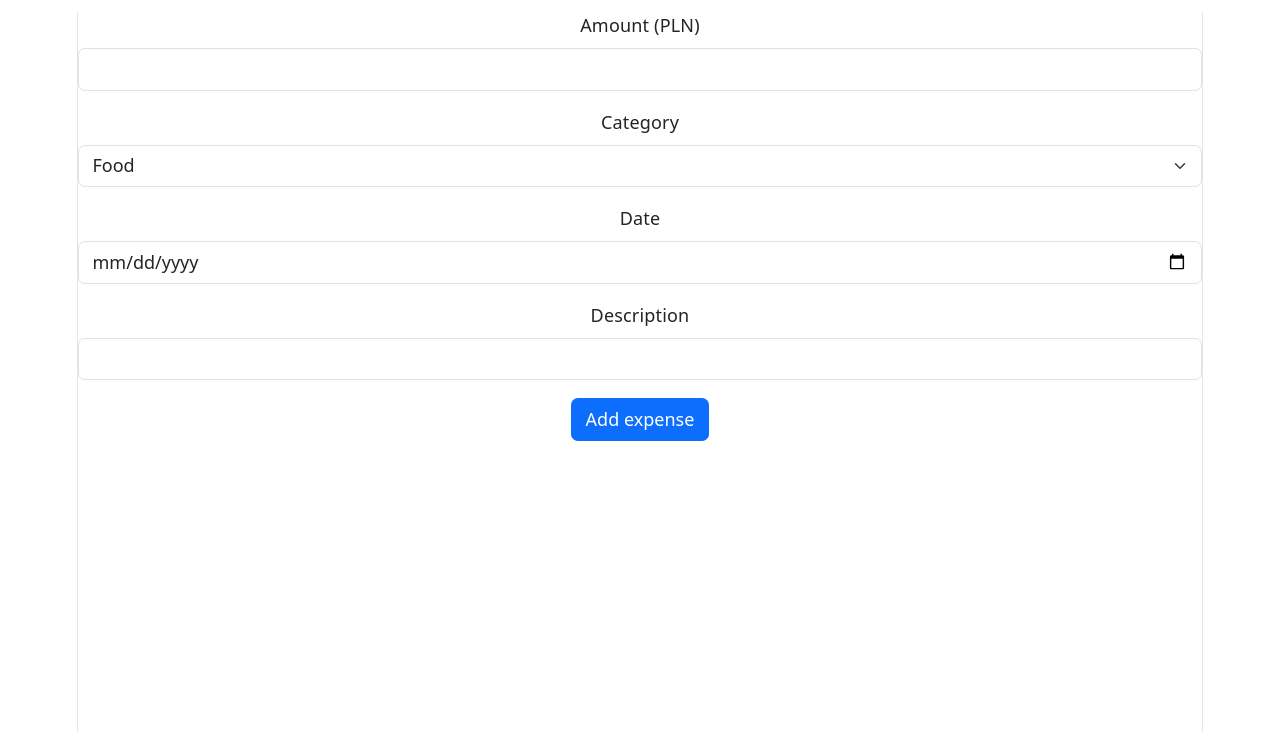
ExpenseForm › shows error when amount is negative
The image size is (1280, 732).
Type "-5" into the number field at (640, 69), box [78,48,1202,90]
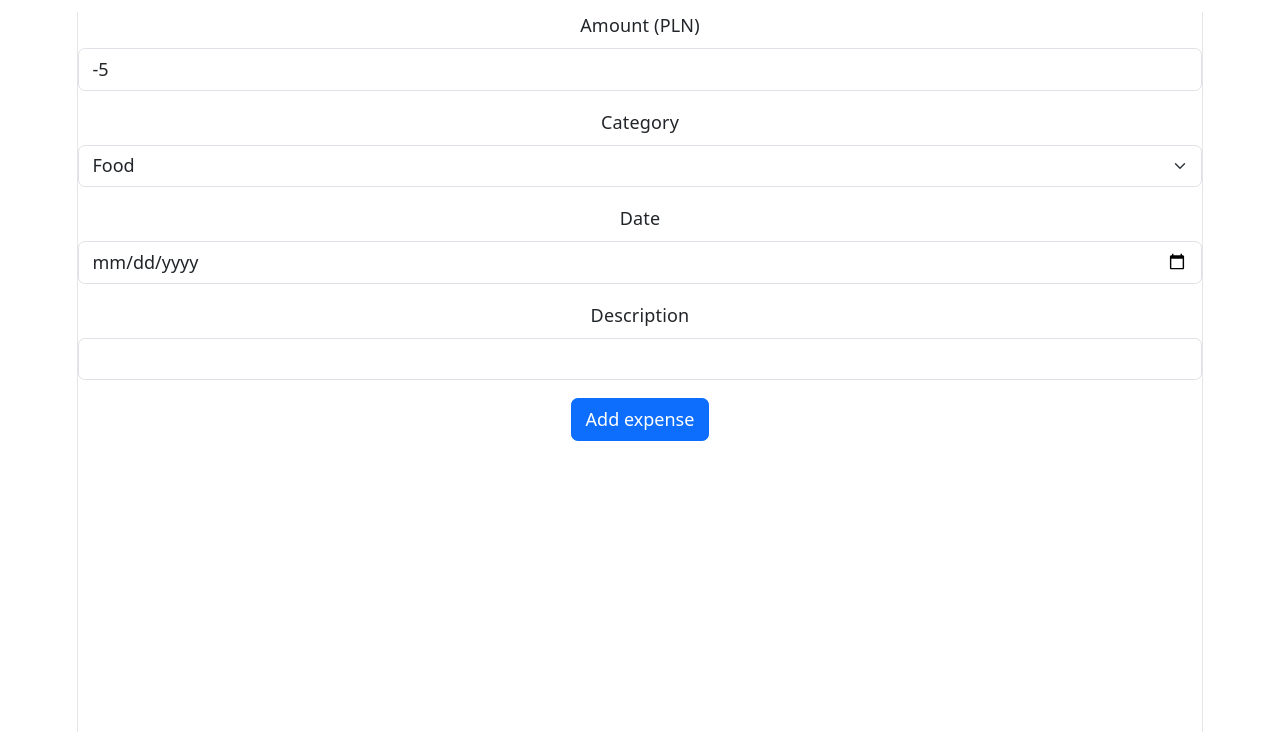
Type "2025-01-01" into the date field at (640, 262), box [78,241,1202,284]
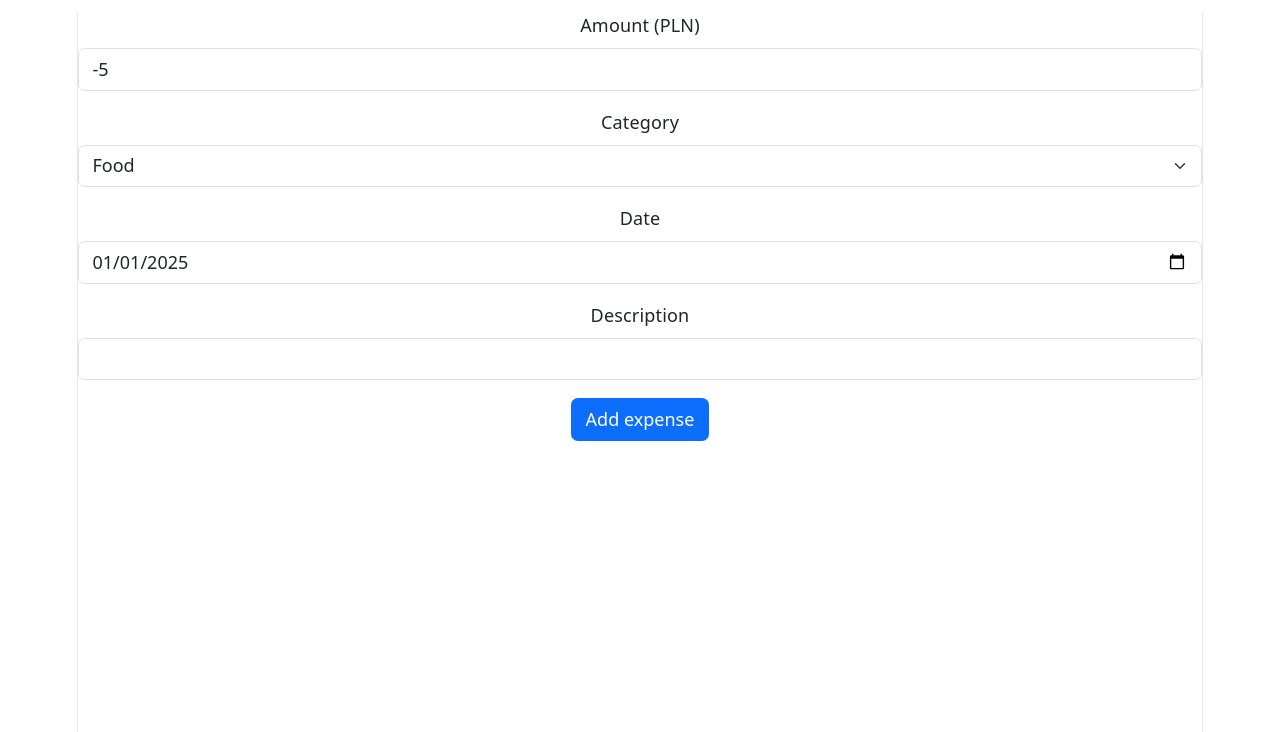
Type "test" into the field at (640, 359), box [78,338,1202,380]
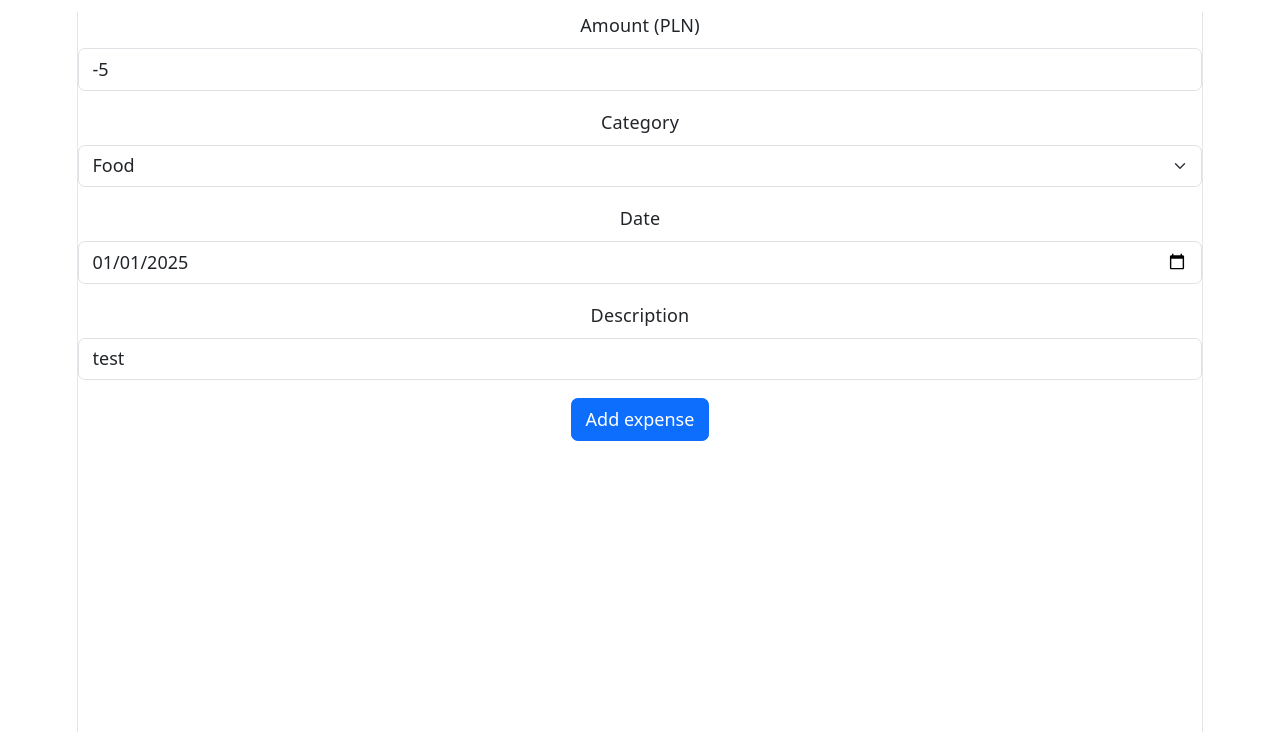
Submit the form "Amount (PLN) Category Date Description Add expense", box [78,12,1202,440]
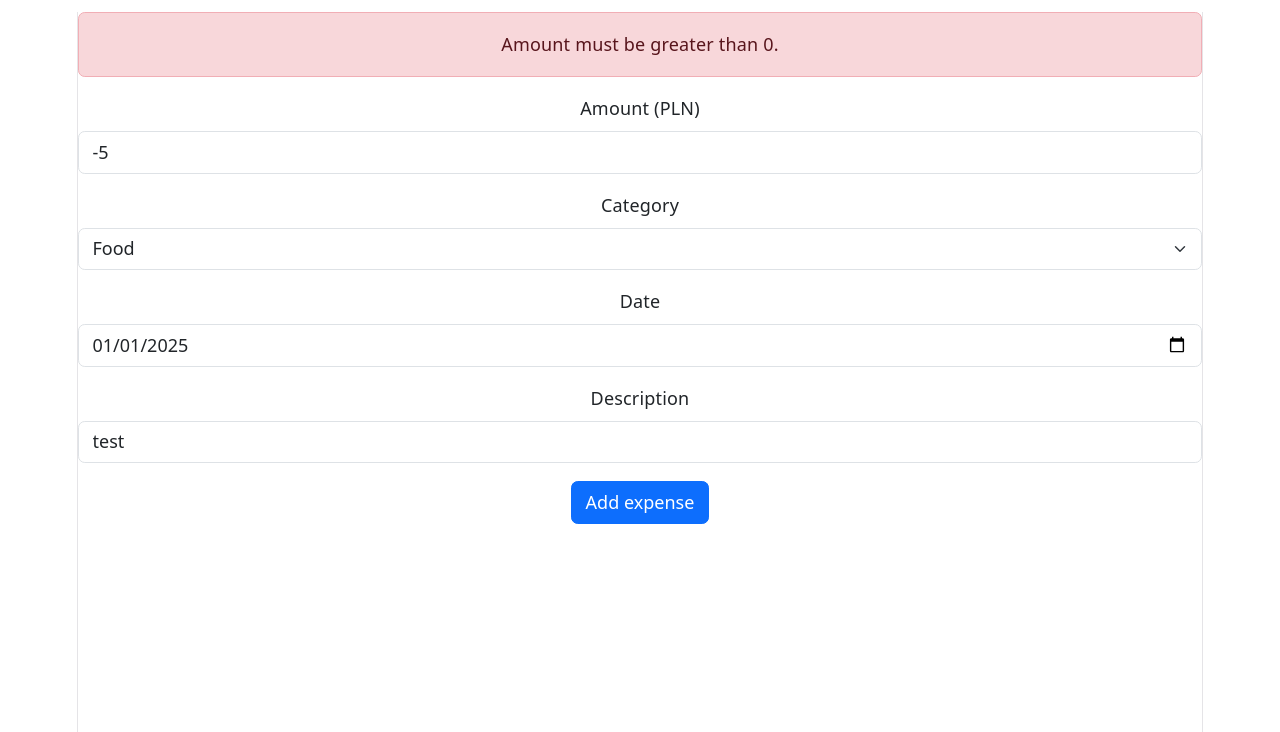
Expected: the text "Amount must be greater than 0." is shown, [78,12,1202,77]
